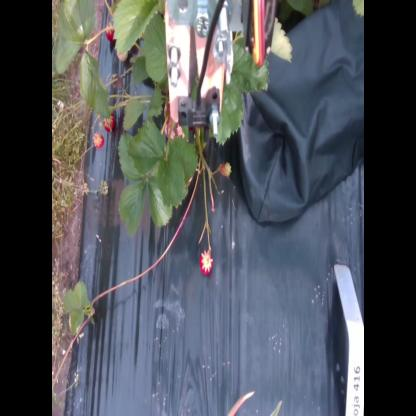ripe: (196, 250, 218, 278), (91, 133, 106, 150), (105, 114, 117, 133), (105, 24, 116, 44)
